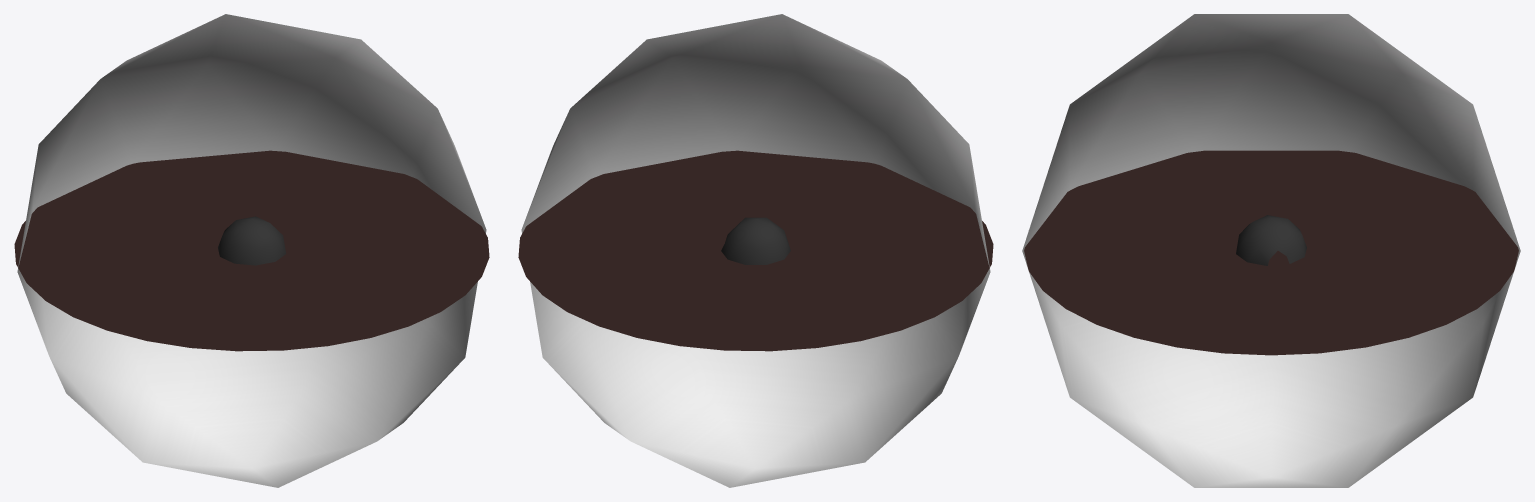
3 views of the same model, side by side, from view 1: azimuth 30°, elevation 25°; view 2: azimuth 150°, elevation 25°; view 3: azimuth 270°, elevation 25° (orthographic). The views are drawn at different scales.
Parts seen in each view (by area): view 1: envirosphere.001, ground.003, lodge.003; view 2: envirosphere.001, ground.003, lodge.003; view 3: envirosphere.001, ground.003, lodge.003.
Boxes of the visible parts, <box> form: envirosphere.001: <box>17,14,486,487</box>; ground.003: <box>14,150,489,351</box>; lodge.003: <box>218,216,286,265</box>; envirosphere.001: <box>521,14,990,487</box>; ground.003: <box>518,150,993,351</box>; lodge.003: <box>721,217,790,264</box>; envirosphere.001: <box>1022,14,1520,487</box>; ground.003: <box>1024,150,1518,355</box>; lodge.003: <box>1236,215,1306,265</box>.
Size of the model in its own units: 13.58 by 13.69 by 13.69.
Materials: 3 (1 with a texture image).
